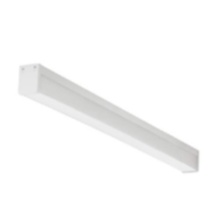light_bulb: (18, 72, 196, 174)
